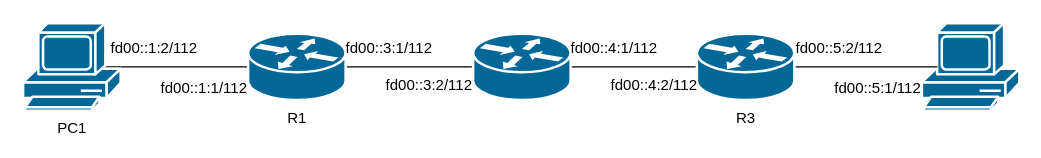
Image size: 1041x158. Some labels were removed from this diagram. Each missing label, with the centre of its shape:
PC2: (970,66)
R2: (521,66)
